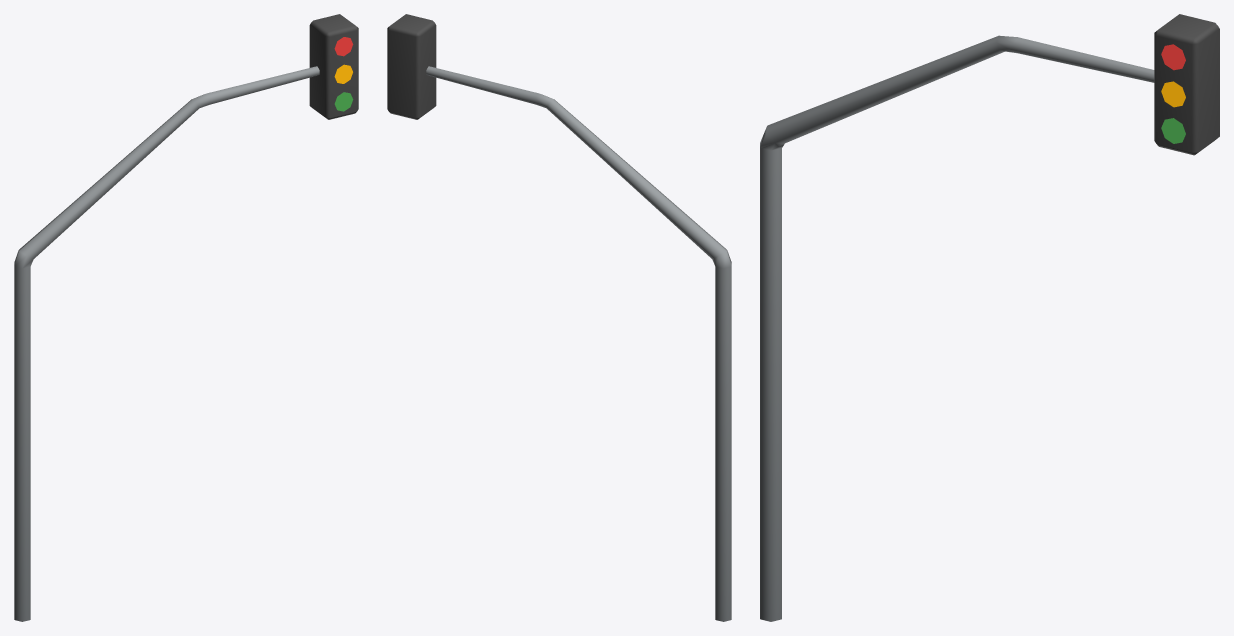
Rendered from traffic_light_001.glb.
The picture shows the model from 3 angles, left to right: view 1: azimuth 30°, elevation 25°; view 2: azimuth 150°, elevation 25°; view 3: azimuth 330°, elevation 25°; orthographic projection. The views are drawn at different scales.
Parts seen in each view (by area): view 1: traffic_light_001; view 2: traffic_light_001; view 3: traffic_light_001.
Boxes of the visible parts, x1,y1,x2,y2 form: traffic_light_001: [14, 14, 358, 621]; traffic_light_001: [387, 14, 731, 621]; traffic_light_001: [760, 14, 1219, 621].
Bounding box in the file's own units: 3.99 × 5.88 × 0.4026.
2 materials, 2 textured.
